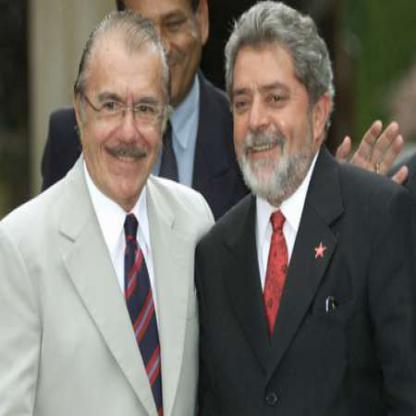face: (226, 10, 318, 199), (84, 13, 167, 203), (125, 1, 201, 103)
